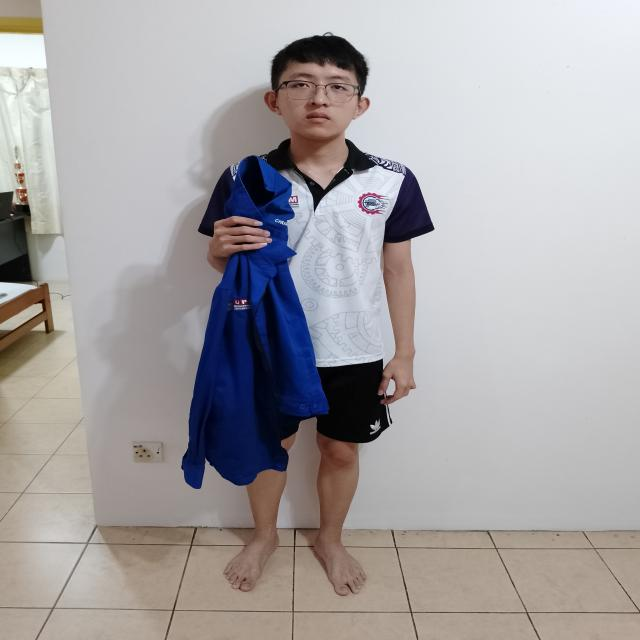person_without_labcoat: (182, 34, 434, 595)
